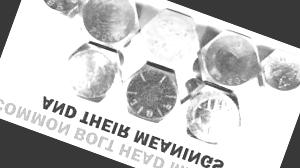hexagonal: (189, 23, 271, 98), (52, 34, 132, 110), (111, 56, 190, 130), (171, 78, 249, 152), (131, 4, 208, 76), (71, 0, 149, 56), (251, 45, 300, 100), (32, 0, 91, 22)
